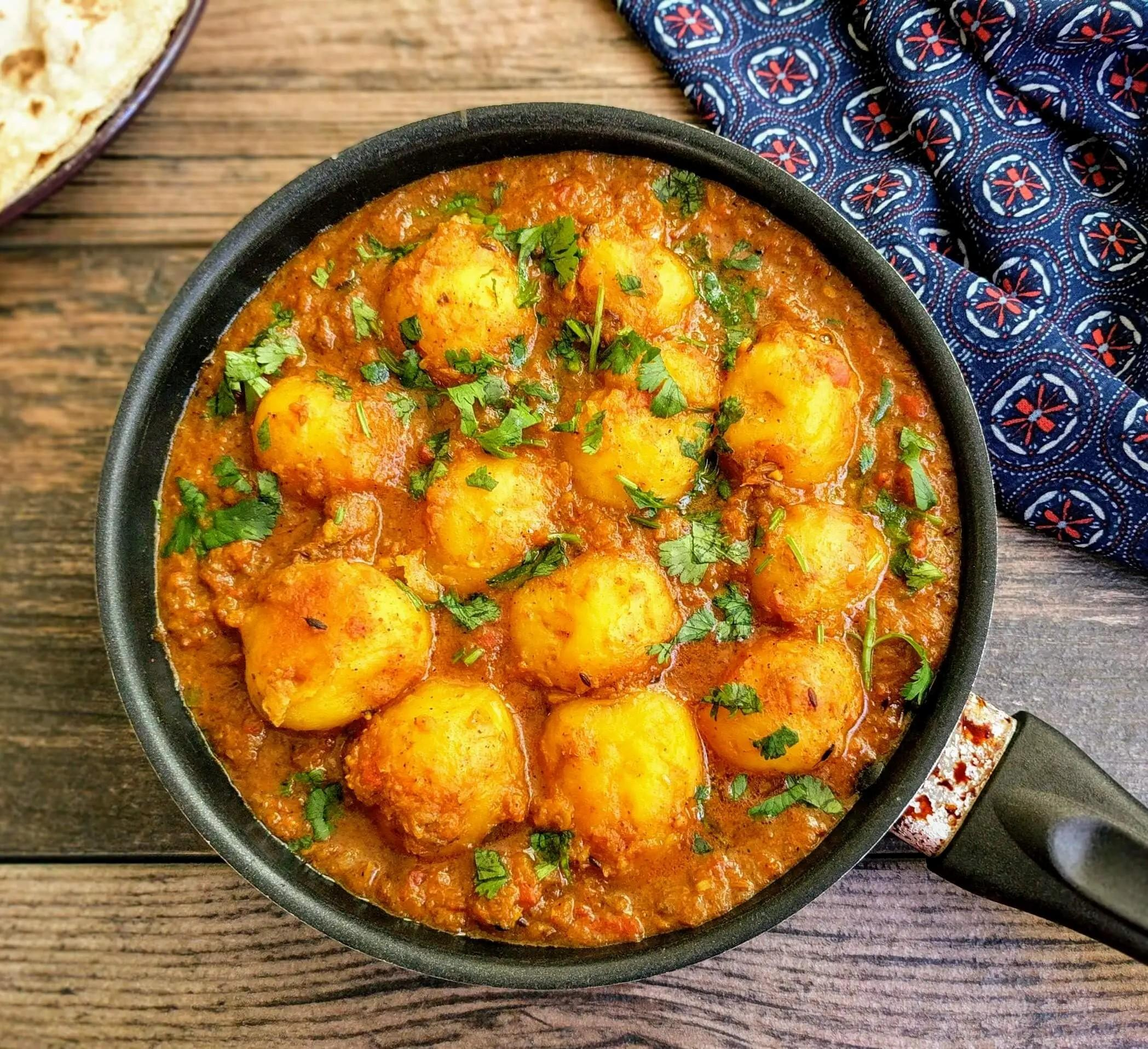DumAloo: (152, 144, 958, 945)
